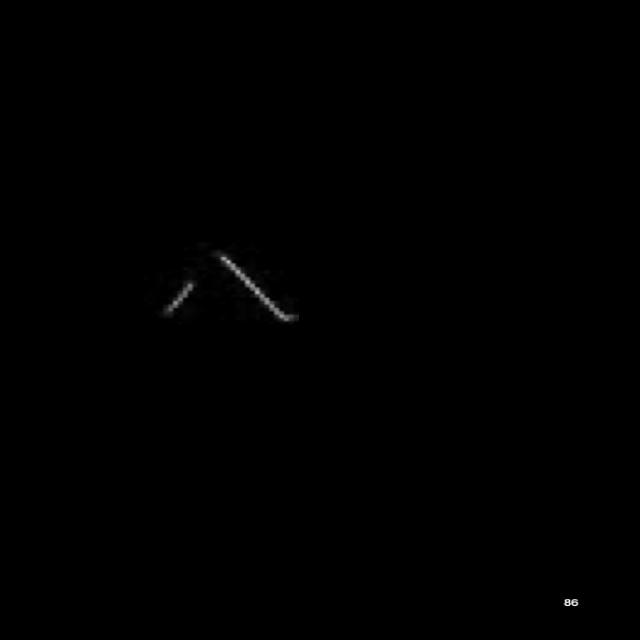8 -eight-: (140, 242, 314, 338)
